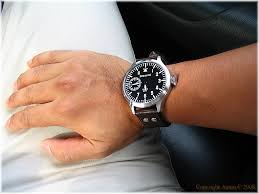clock: (124, 61, 166, 103)
